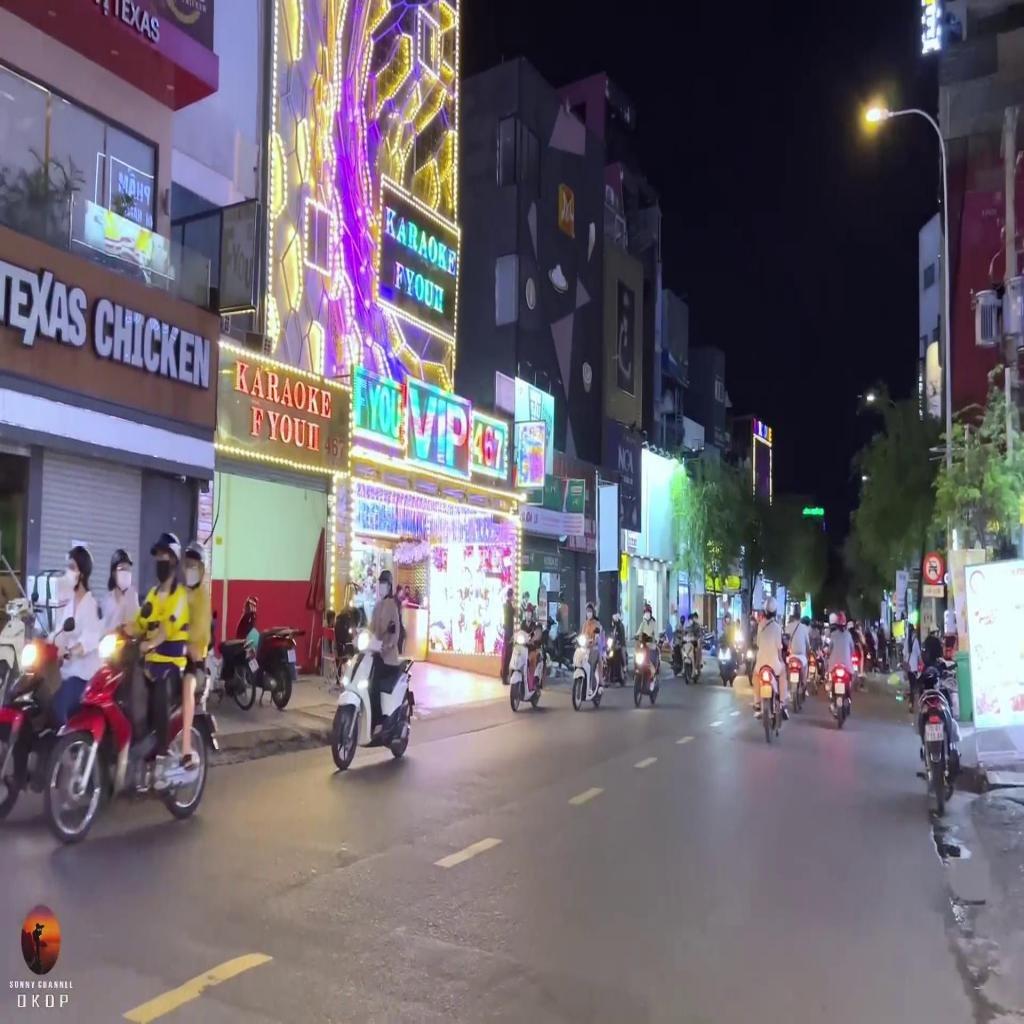cam_o_to: (922, 552, 944, 584)
khac: (923, 585, 944, 597)
